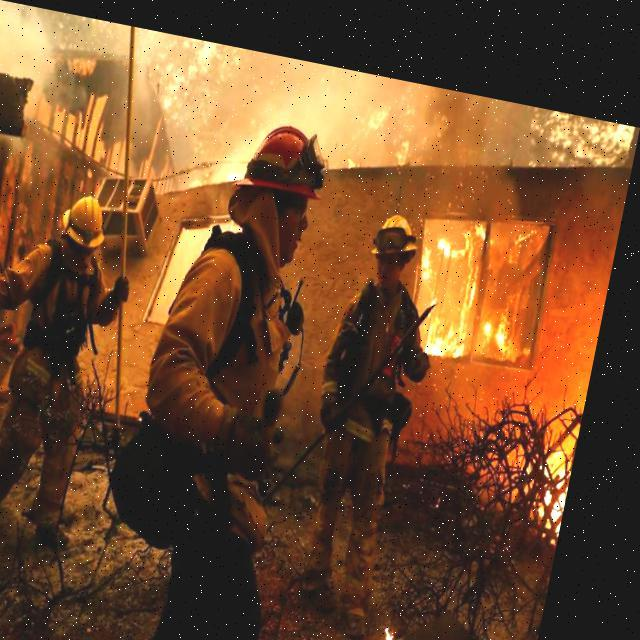Fire: (415, 185, 559, 351), (548, 417, 588, 516), (398, 598, 426, 632)
